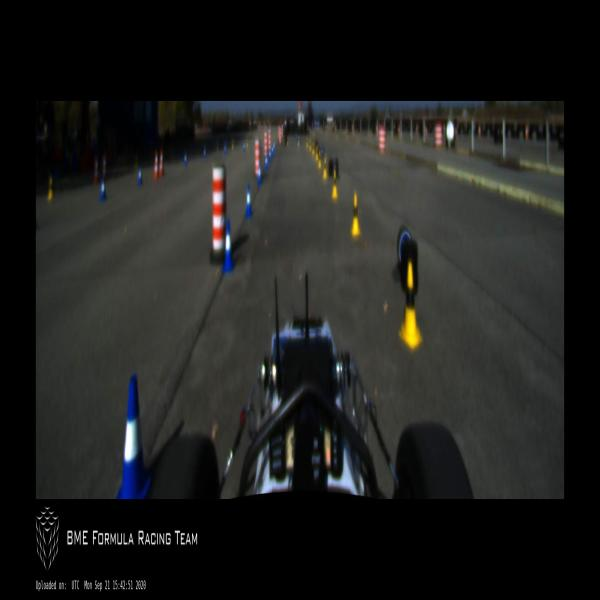blue_cone: (116, 374, 152, 498), (222, 220, 235, 273), (245, 184, 252, 217), (100, 176, 106, 200), (257, 163, 262, 185), (138, 164, 142, 186), (264, 154, 268, 170), (268, 149, 272, 162), (184, 151, 187, 166), (203, 147, 206, 157), (224, 144, 227, 154), (272, 144, 274, 154), (243, 142, 245, 151), (273, 144, 274, 152)
large_orange_cone: (93, 156, 99, 187), (159, 148, 164, 179), (154, 151, 158, 179), (102, 154, 106, 180)
yellow_cone: (398, 261, 423, 351), (350, 193, 361, 237), (332, 170, 338, 199), (47, 176, 54, 200), (322, 156, 327, 179), (134, 153, 138, 168), (318, 151, 321, 168), (315, 146, 318, 160), (216, 140, 219, 151), (273, 136, 276, 146), (259, 137, 262, 147), (312, 142, 314, 154), (309, 139, 311, 151), (306, 136, 308, 148), (298, 136, 300, 146), (246, 138, 248, 148), (232, 138, 234, 148), (287, 136, 288, 146)
